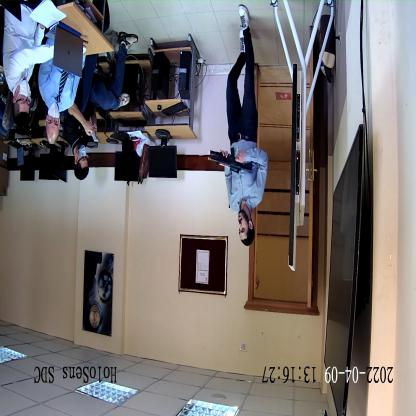handgun: (210, 146, 252, 176)
